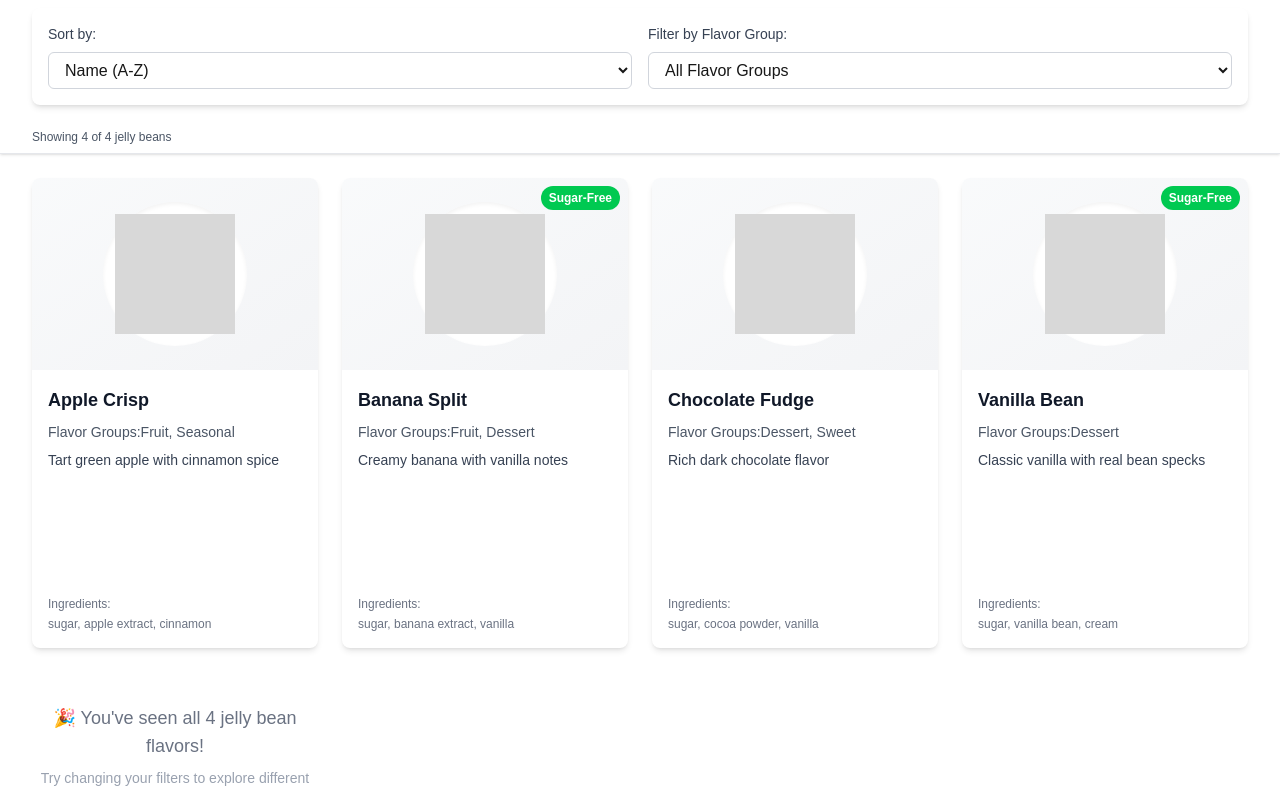
Test: InfiniteJellyBeanList Integration Tests › Real Component Integration › handles real filtering with actual component interactions
Expected: the heading "Apple Crisp" is shown, x1=48 y1=390 x2=149 y2=410
Expected: the heading "Chocolate Fudge" is shown, x1=668 y1=390 x2=814 y2=410
Filter by "Fruit" group
Select "Fruit" in the dropdown labelled "Filter by Flavor Group:" at (940, 70), box x1=648 y1=52 x2=1232 y2=89
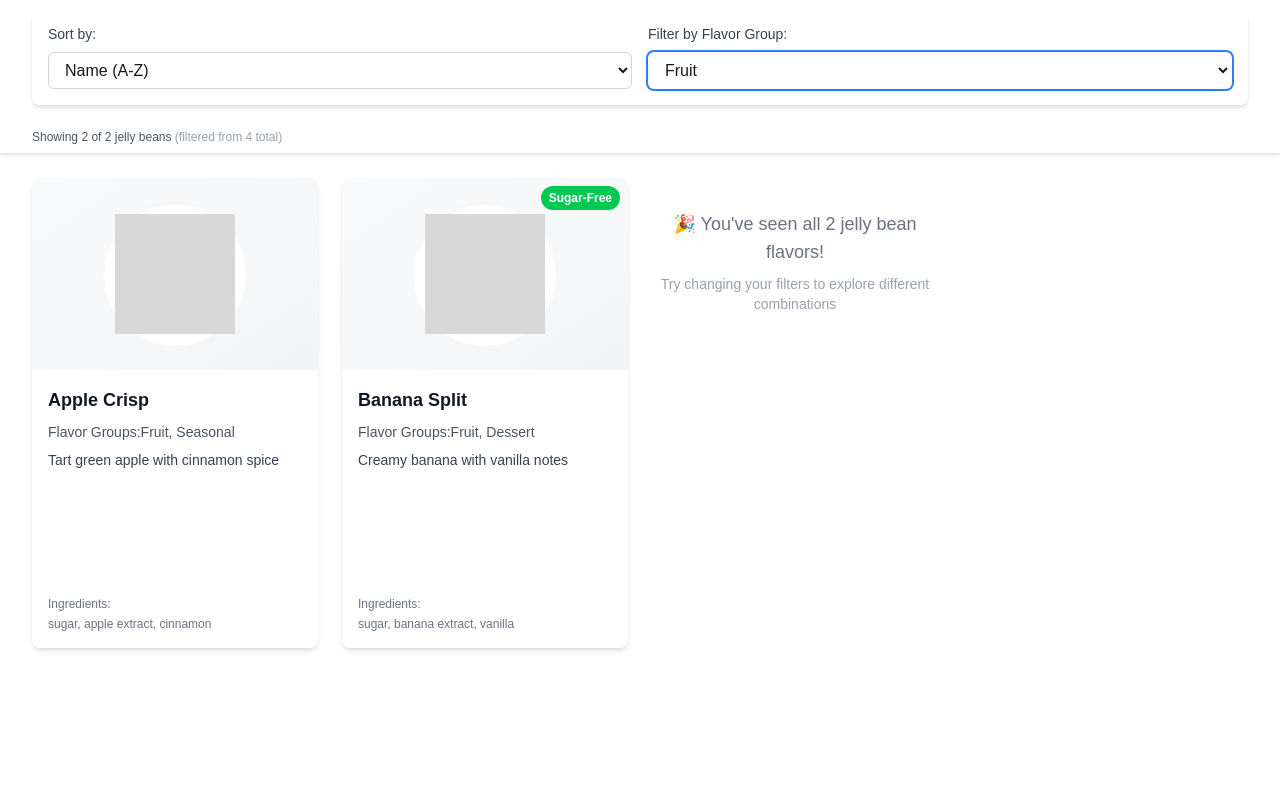
Expected: the heading "Chocolate Fudge" is gone
Expected: the heading "Vanilla Bean" is gone
Expected: the text "Showing 2 of 2 jelly beans" is shown, x1=32 y1=130 x2=282 y2=144
